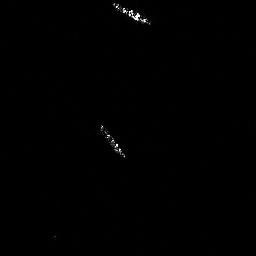ship: (110, 1, 152, 26), (99, 125, 127, 160)
